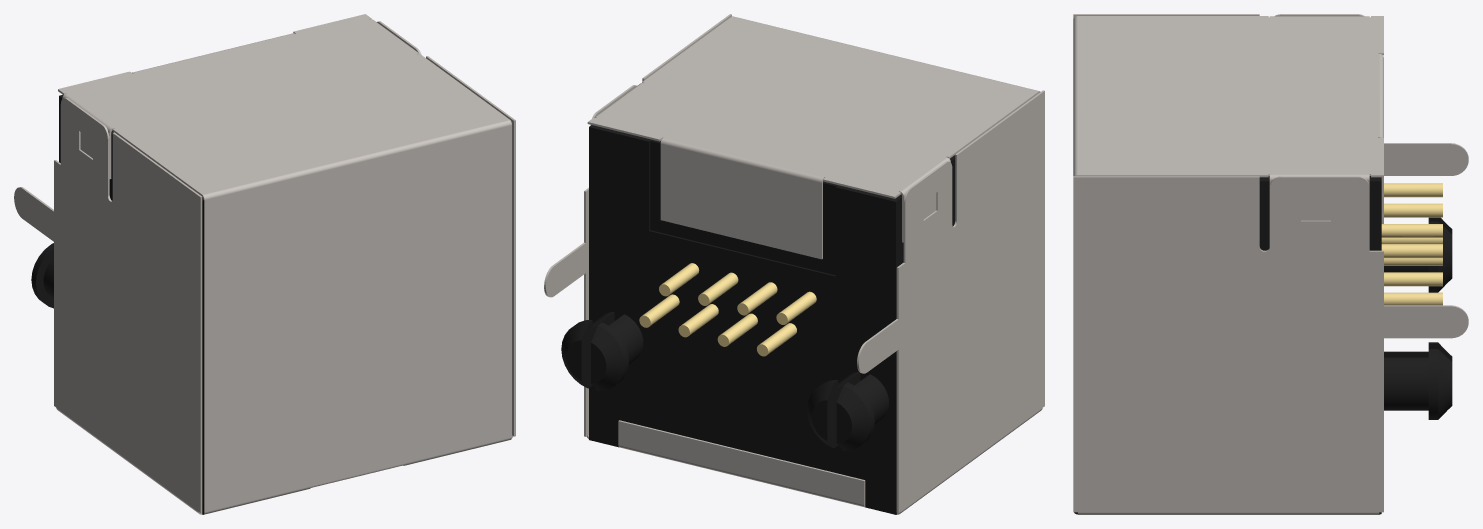
Rendered from Shenzhen_Kinghelm_Elec_KH_RJ45_56_8P8C.3dmodel.glb.
3 renders of one model, left to right at view 1: azimuth 30°, elevation 25°; view 2: azimuth 150°, elevation 25°; view 3: azimuth 270°, elevation 25°, orthographic. The views are drawn at different scales.
Visible parts, largest first — view 1: =>[0:1:1:1]; view 2: =>[0:1:1:1]; view 3: =>[0:1:1:1].
Part boxes in pixels (x1,y1,x2,y2): =>[0:1:1:1]: (14, 14, 515, 514); =>[0:1:1:1]: (544, 14, 1044, 514); =>[0:1:1:1]: (1073, 14, 1468, 514).
Bounding box in the file's own units: 16.4 × 15.9 × 16.8.
